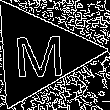M_N: (11, 27, 67, 80)
